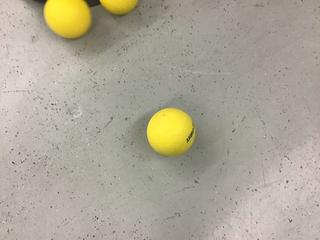power_cell: (144, 103, 196, 153), (45, 1, 92, 42)
